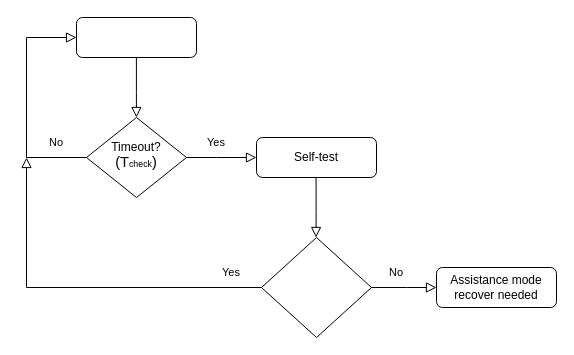
Image size: 574x355. Some labels were removed from this diagram. The shapes that lost their labels are listed below. From the top down, each one's box as (x1, y1, x2, y2) in pixels, then its label:
(76, 16, 196, 58): Choose
(260, 236, 372, 338): Is temperature in range?
